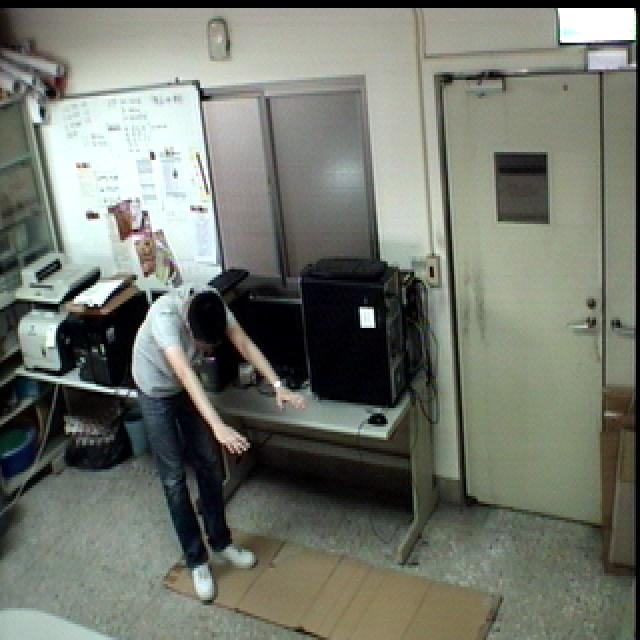bend: (122, 273, 308, 611)
